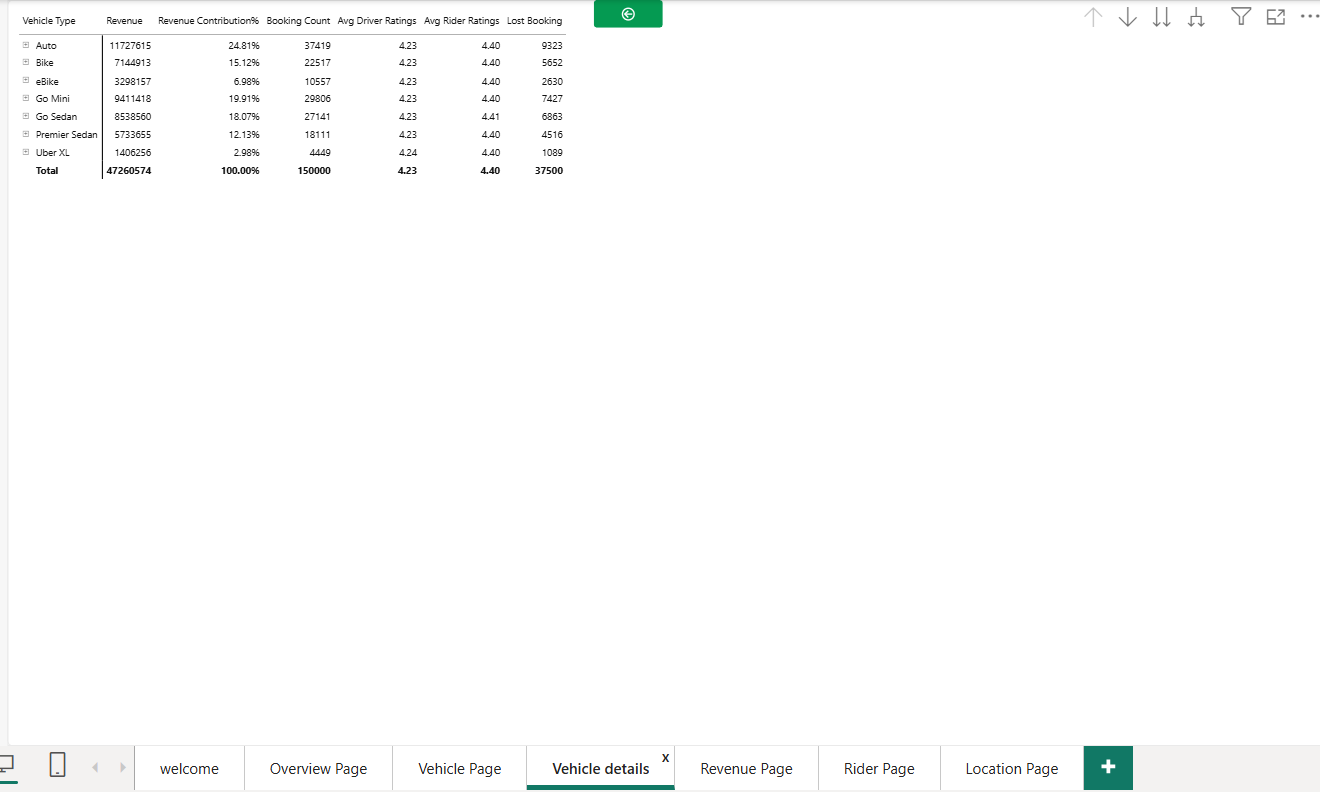

The page's visual inventory and layout, read from the dashboard file:
{"tool":"powerbi","page":{"name":"Vehicle details","canvas":[1920,1080],"ordinal":3},"visuals":[{"type":"pivotTable","fields":{"Rows":["Uber.Vehicle Type","Uber.Booking ID","Uber.Date.Variation.Date Hierarchy.Year","Uber.Date.Variation.Date Hierarchy.Quarter","Uber.Date.Variation.Date Hierarchy.Month","Uber.Date.Variation.Date Hierarchy.Day"],"Values":["measure.Revenue","measure.Revenue Contribution%","measure.Booking Count","measure.Avg Driver Ratings","measure.Avg Rider Ratings","measure.Lost Booking"]},"box":[10.9,0,1909.2,1080.4],"z":0},{"type":"actionButton","box":[859.6,0,100,40],"z":1}]}

Visuals, with their boxes on the page's 1920x1080 design canvas (x1, y1, x2, y2). These are canvas units, not pixel positions in the 1320x792 screenshot, which may show the page scaled, cropped or inside an application window:
pivotTable - Uber.Vehicle Type x Uber.Booking ID: Rect(11, 0, 1920, 1080)
actionButton: Rect(860, 0, 960, 40)
